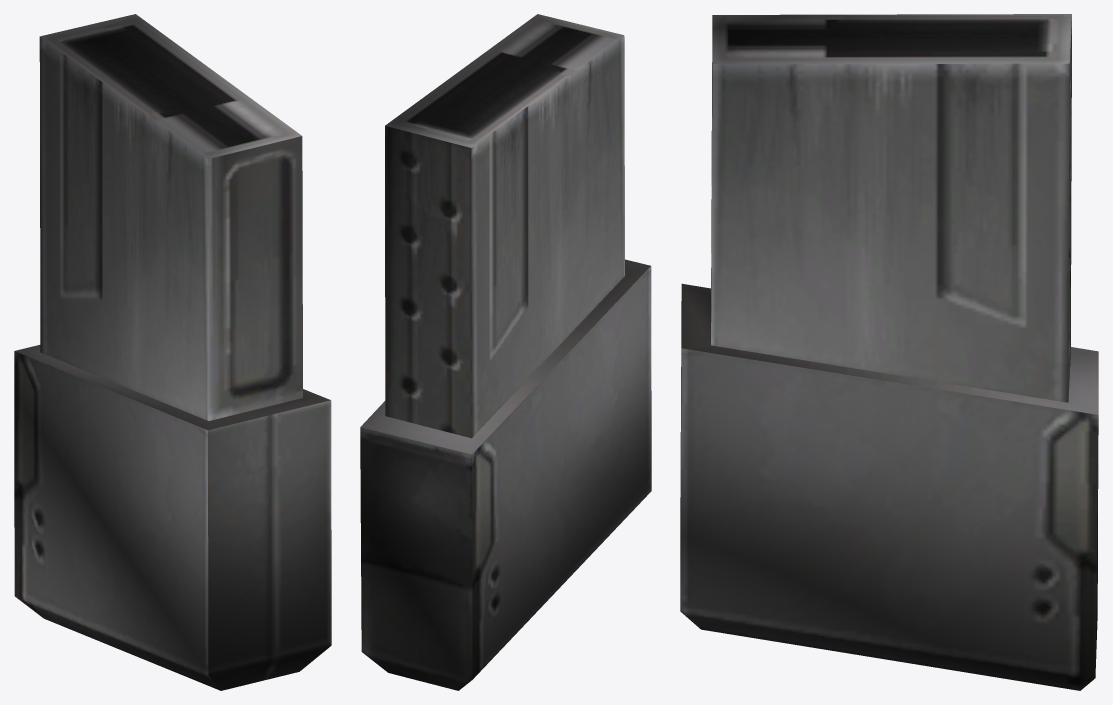
The model's file is mag_762mm.glb.
3 views of the same model, side by side, from view 1: azimuth 30°, elevation 25°; view 2: azimuth 150°, elevation 25°; view 3: azimuth 270°, elevation 25° (orthographic). The views are drawn at different scales.
Parts seen in each view (by area): view 1: Box01; view 2: Box01; view 3: Box01.
Part boxes in pixels (<box>): Box01: <box>14,14,331,690</box>; Box01: <box>360,14,651,690</box>; Box01: <box>680,14,1098,690</box>.
Bounding box in the file's own units: 2.59 × 11.81 × 7.09.
Materials: 1 (1 with a texture image).
